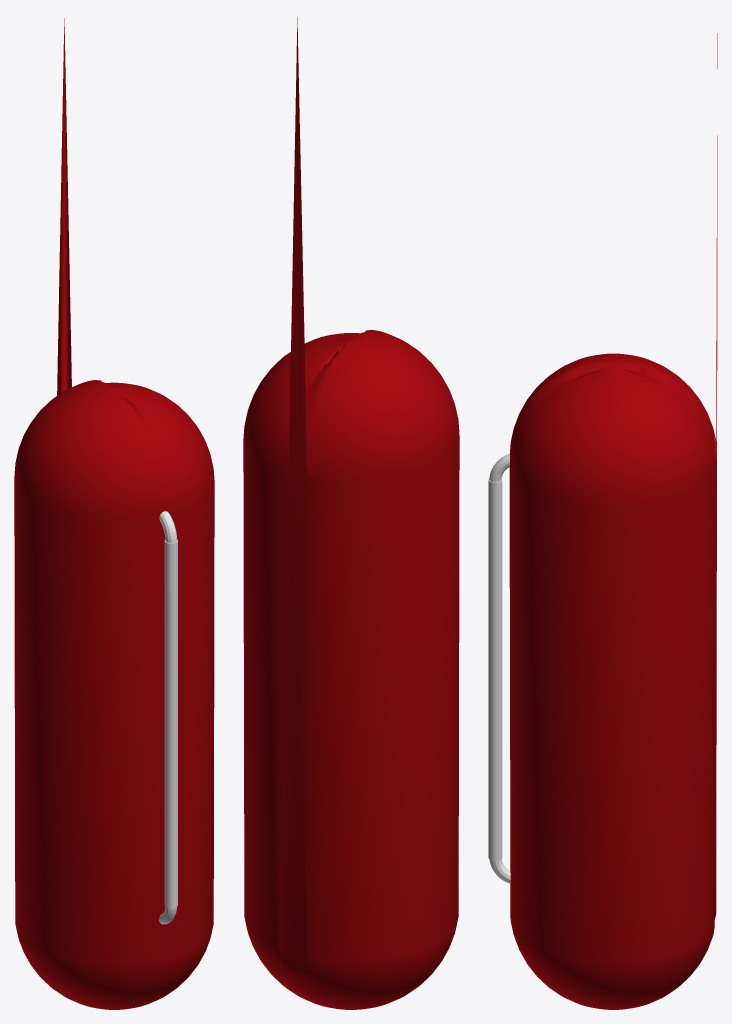
Rendered from debris7.fbx.
The picture shows the model from 3 angles, left to right: view 1: azimuth 30°, elevation 25°; view 2: azimuth 150°, elevation 25°; view 3: azimuth 270°, elevation 25°; orthographic projection. The views are drawn at different scales.
Parts seen in each view (by area): view 1: Sphere.002, Cylinder.004; view 2: Sphere.002; view 3: Sphere.002, Cylinder.004.
Boxes of the visible parts, x1,y1,x2,y2 form: Sphere.002: (14,18,214,1009); Cylinder.004: (164,540,177,907); Sphere.002: (243,17,459,1009); Sphere.002: (509,33,717,1009); Cylinder.004: (488,478,502,860).
Size of the model in its own units: 200 by 1047 by 220.
